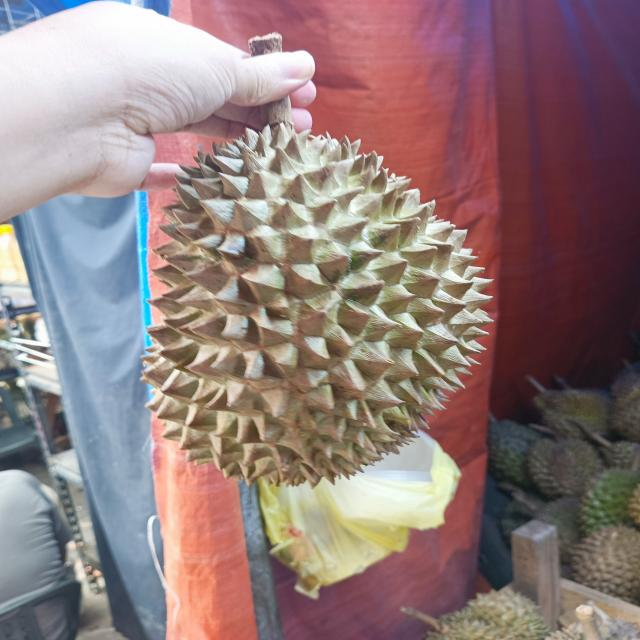mature: (140, 116, 492, 488)
